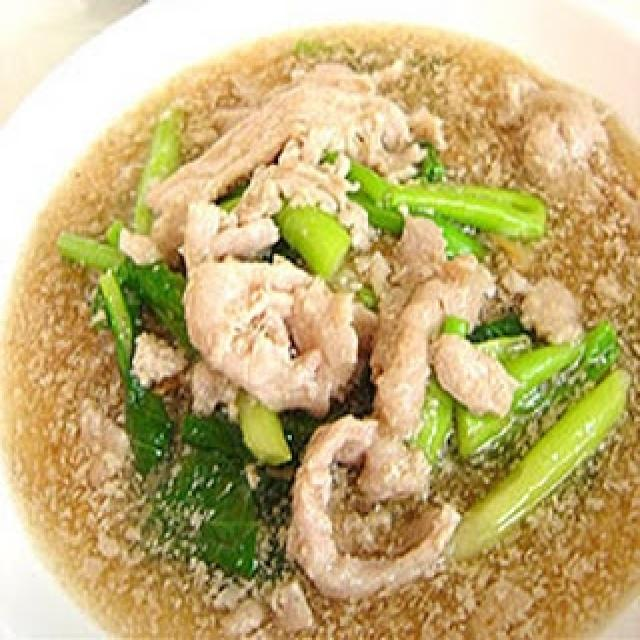面条主食: (44, 21, 612, 617)
